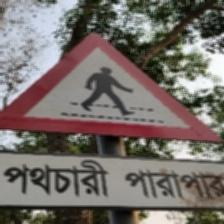Pedestrian-crossing: (0, 32, 222, 214)
